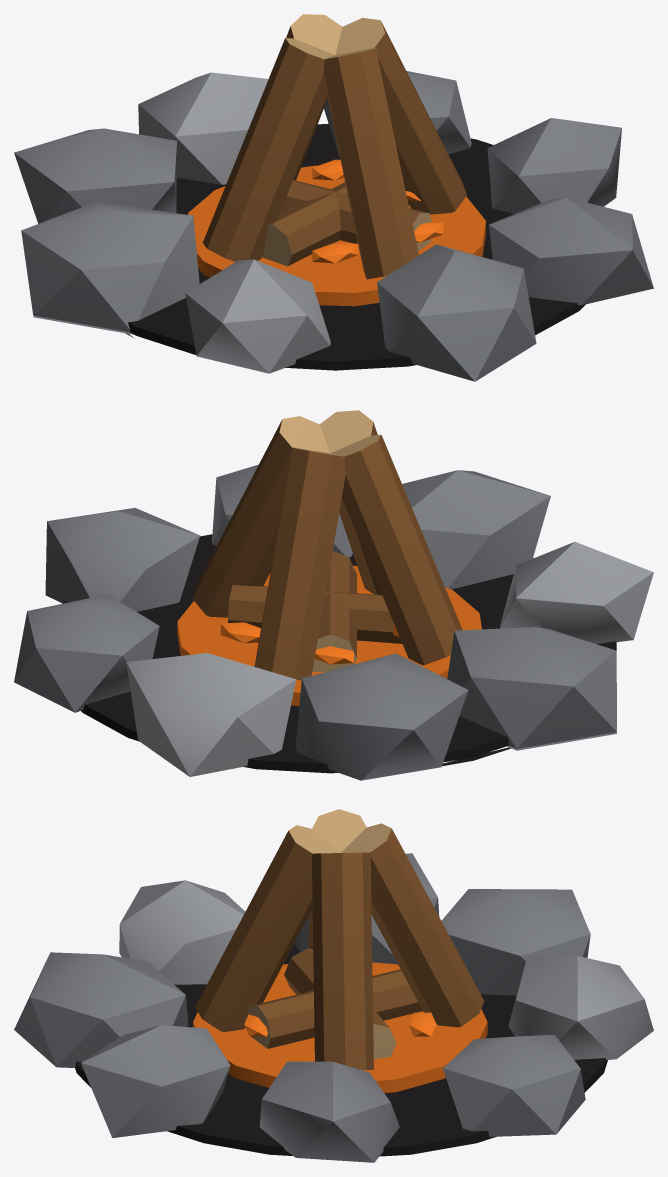
The model's file is campfire_1.glb.
3 renders of one model, top to bottom at view 1: azimuth 30°, elevation 25°; view 2: azimuth 150°, elevation 25°; view 3: azimuth 270°, elevation 25°, orthographic. The views are drawn at different scales.
Visible parts, largest first — view 1: campfire_1, campfire_1_craft; view 2: campfire_1, campfire_1_craft; view 3: campfire_1, campfire_1_craft.
Part boxes in pixels (left/top/right/bottom): campfire_1: left=14, top=14, right=653, bottom=381; campfire_1_craft: left=312, top=159, right=443, bottom=263; campfire_1: left=14, top=410, right=653, bottom=780; campfire_1_craft: left=220, top=567, right=399, bottom=664; campfire_1: left=14, top=809, right=653, bottom=1162; campfire_1_craft: left=244, top=994, right=436, bottom=1036.
Bounding box in the file's own units: 2.03 × 0.752 × 2.02.
